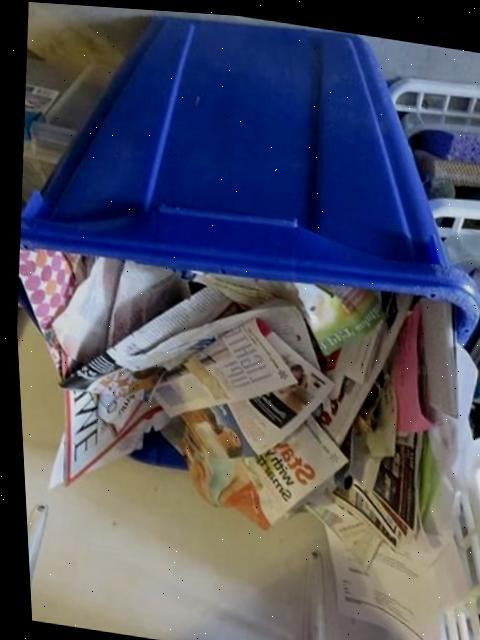Garbage: (14, 247, 452, 559)
